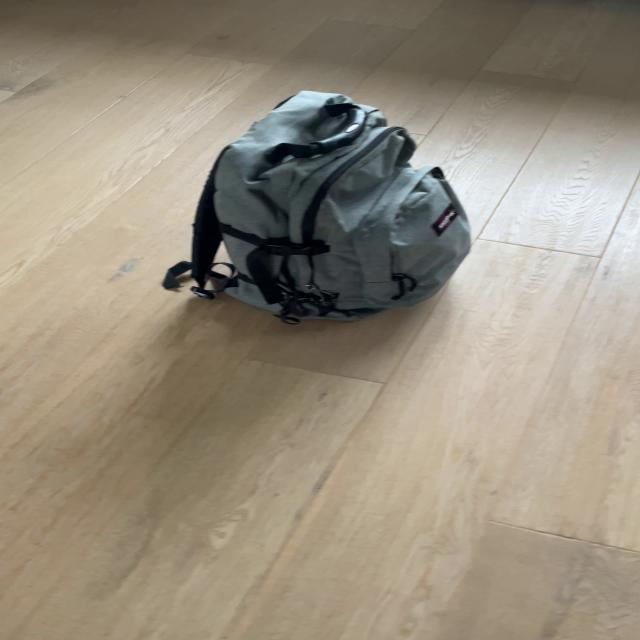backpack: (177, 83, 483, 331)
